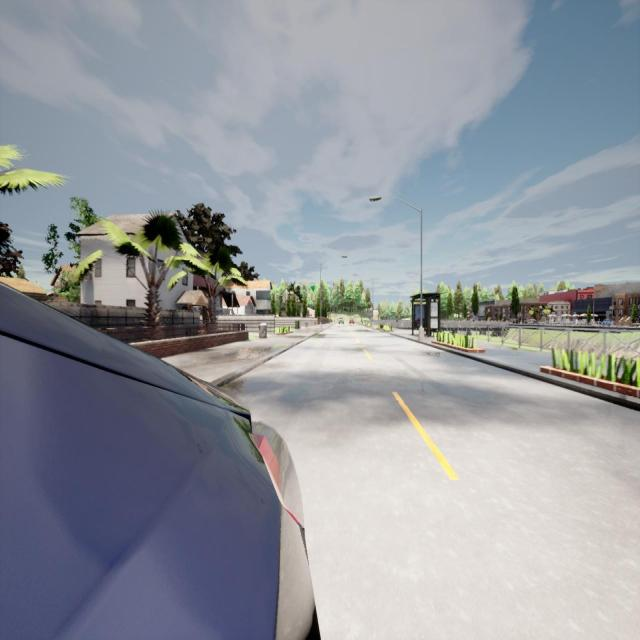Vehicle: (0, 284, 315, 638), (338, 316, 344, 324), (348, 318, 354, 325)
